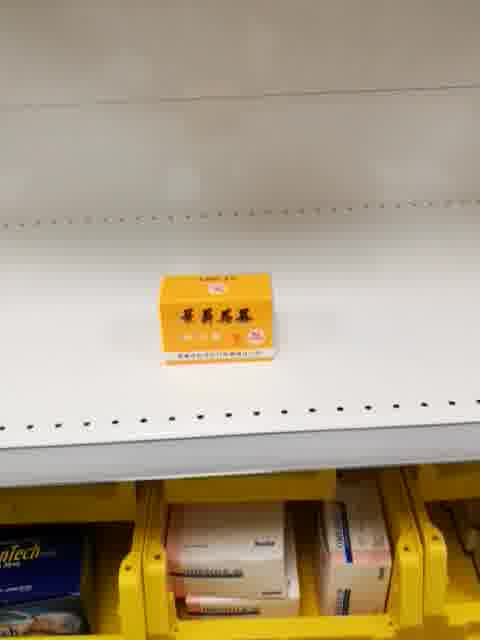jasminetea: (158, 269, 279, 366)
